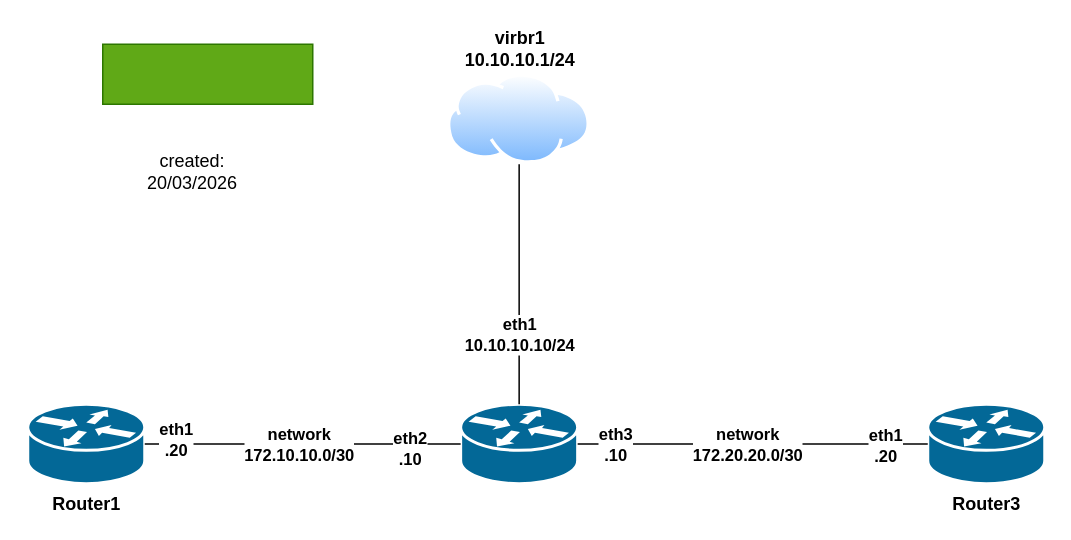
The diagram is 1071 pixels wide and 540 high, and some of its shapes have lost their labels. Here are the shapes that lost their labels. From the top down, the box of each, then its label:
(101, 43, 313, 104): RIP-multi-router
(458, 402, 578, 484): Router2
